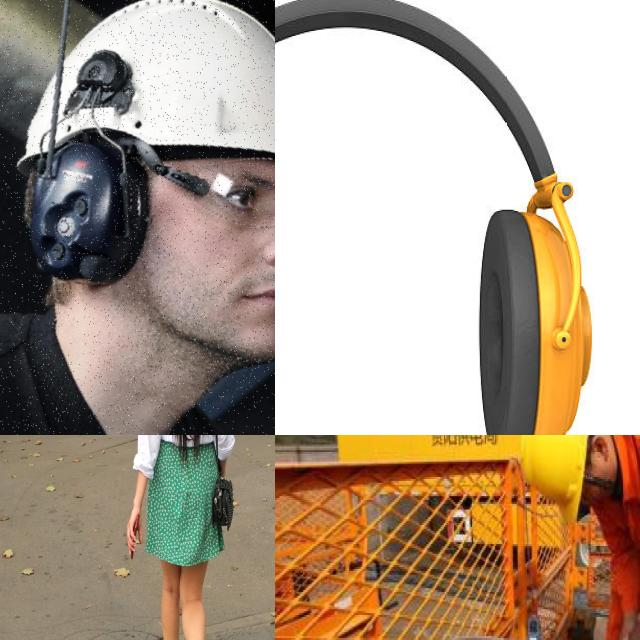Ear-protection: (275, 0, 609, 435), (27, 126, 148, 283)
No_Ear-Protection: (587, 435, 616, 462)
glasses: (164, 161, 275, 227)
head_helmet: (15, 0, 275, 167), (521, 435, 587, 523)
